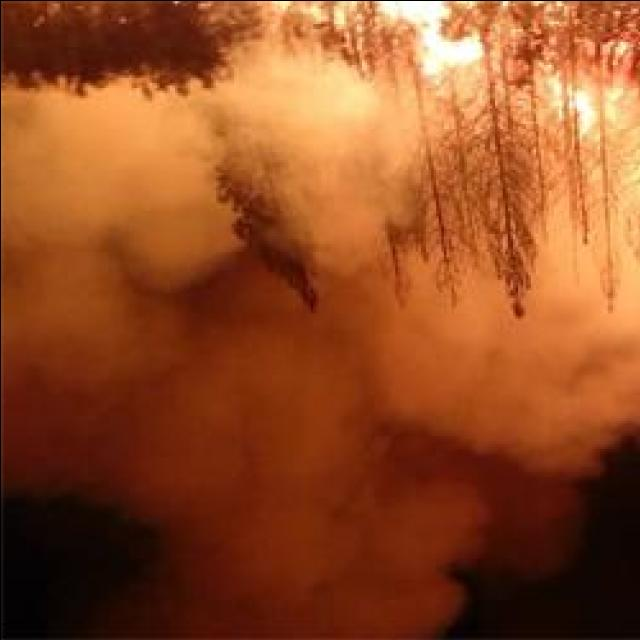fire: (380, 2, 484, 74), (546, 70, 628, 138)
smoke: (0, 92, 237, 290), (260, 72, 415, 268), (328, 432, 468, 632), (394, 347, 609, 473), (5, 234, 168, 380)
